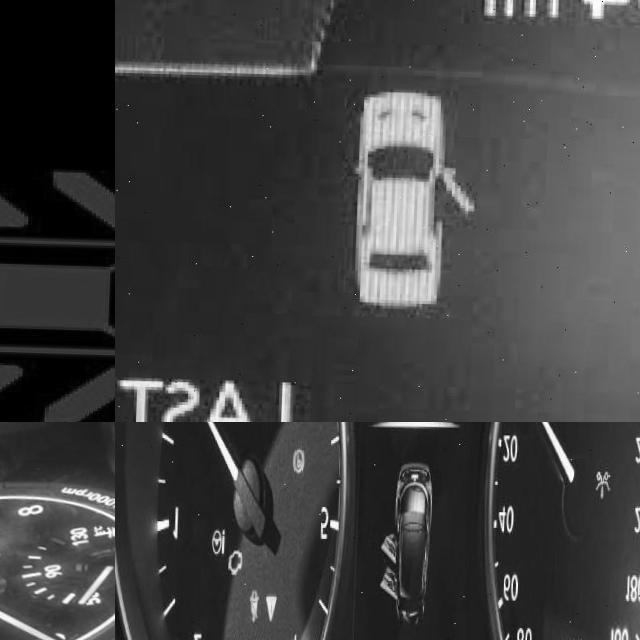Electronic Power Steering Warning: (209, 521, 231, 555)
Seat Belt: (247, 586, 268, 624)
